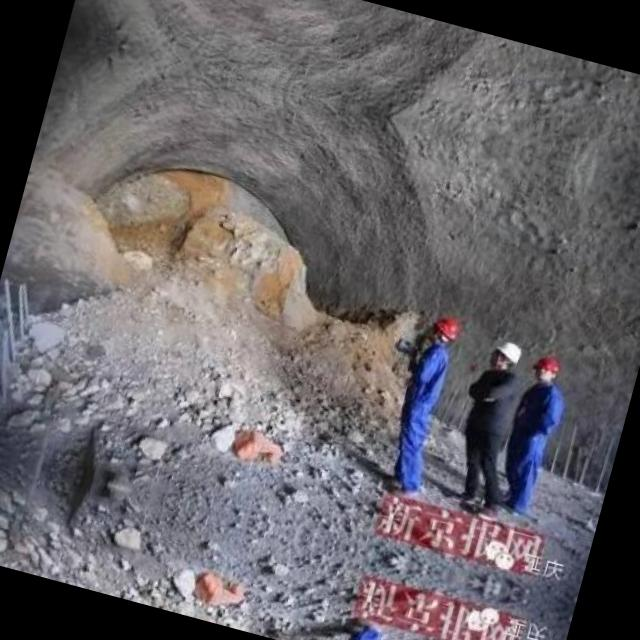helmet: (421, 304, 464, 351), (484, 332, 524, 372), (531, 351, 565, 385)
